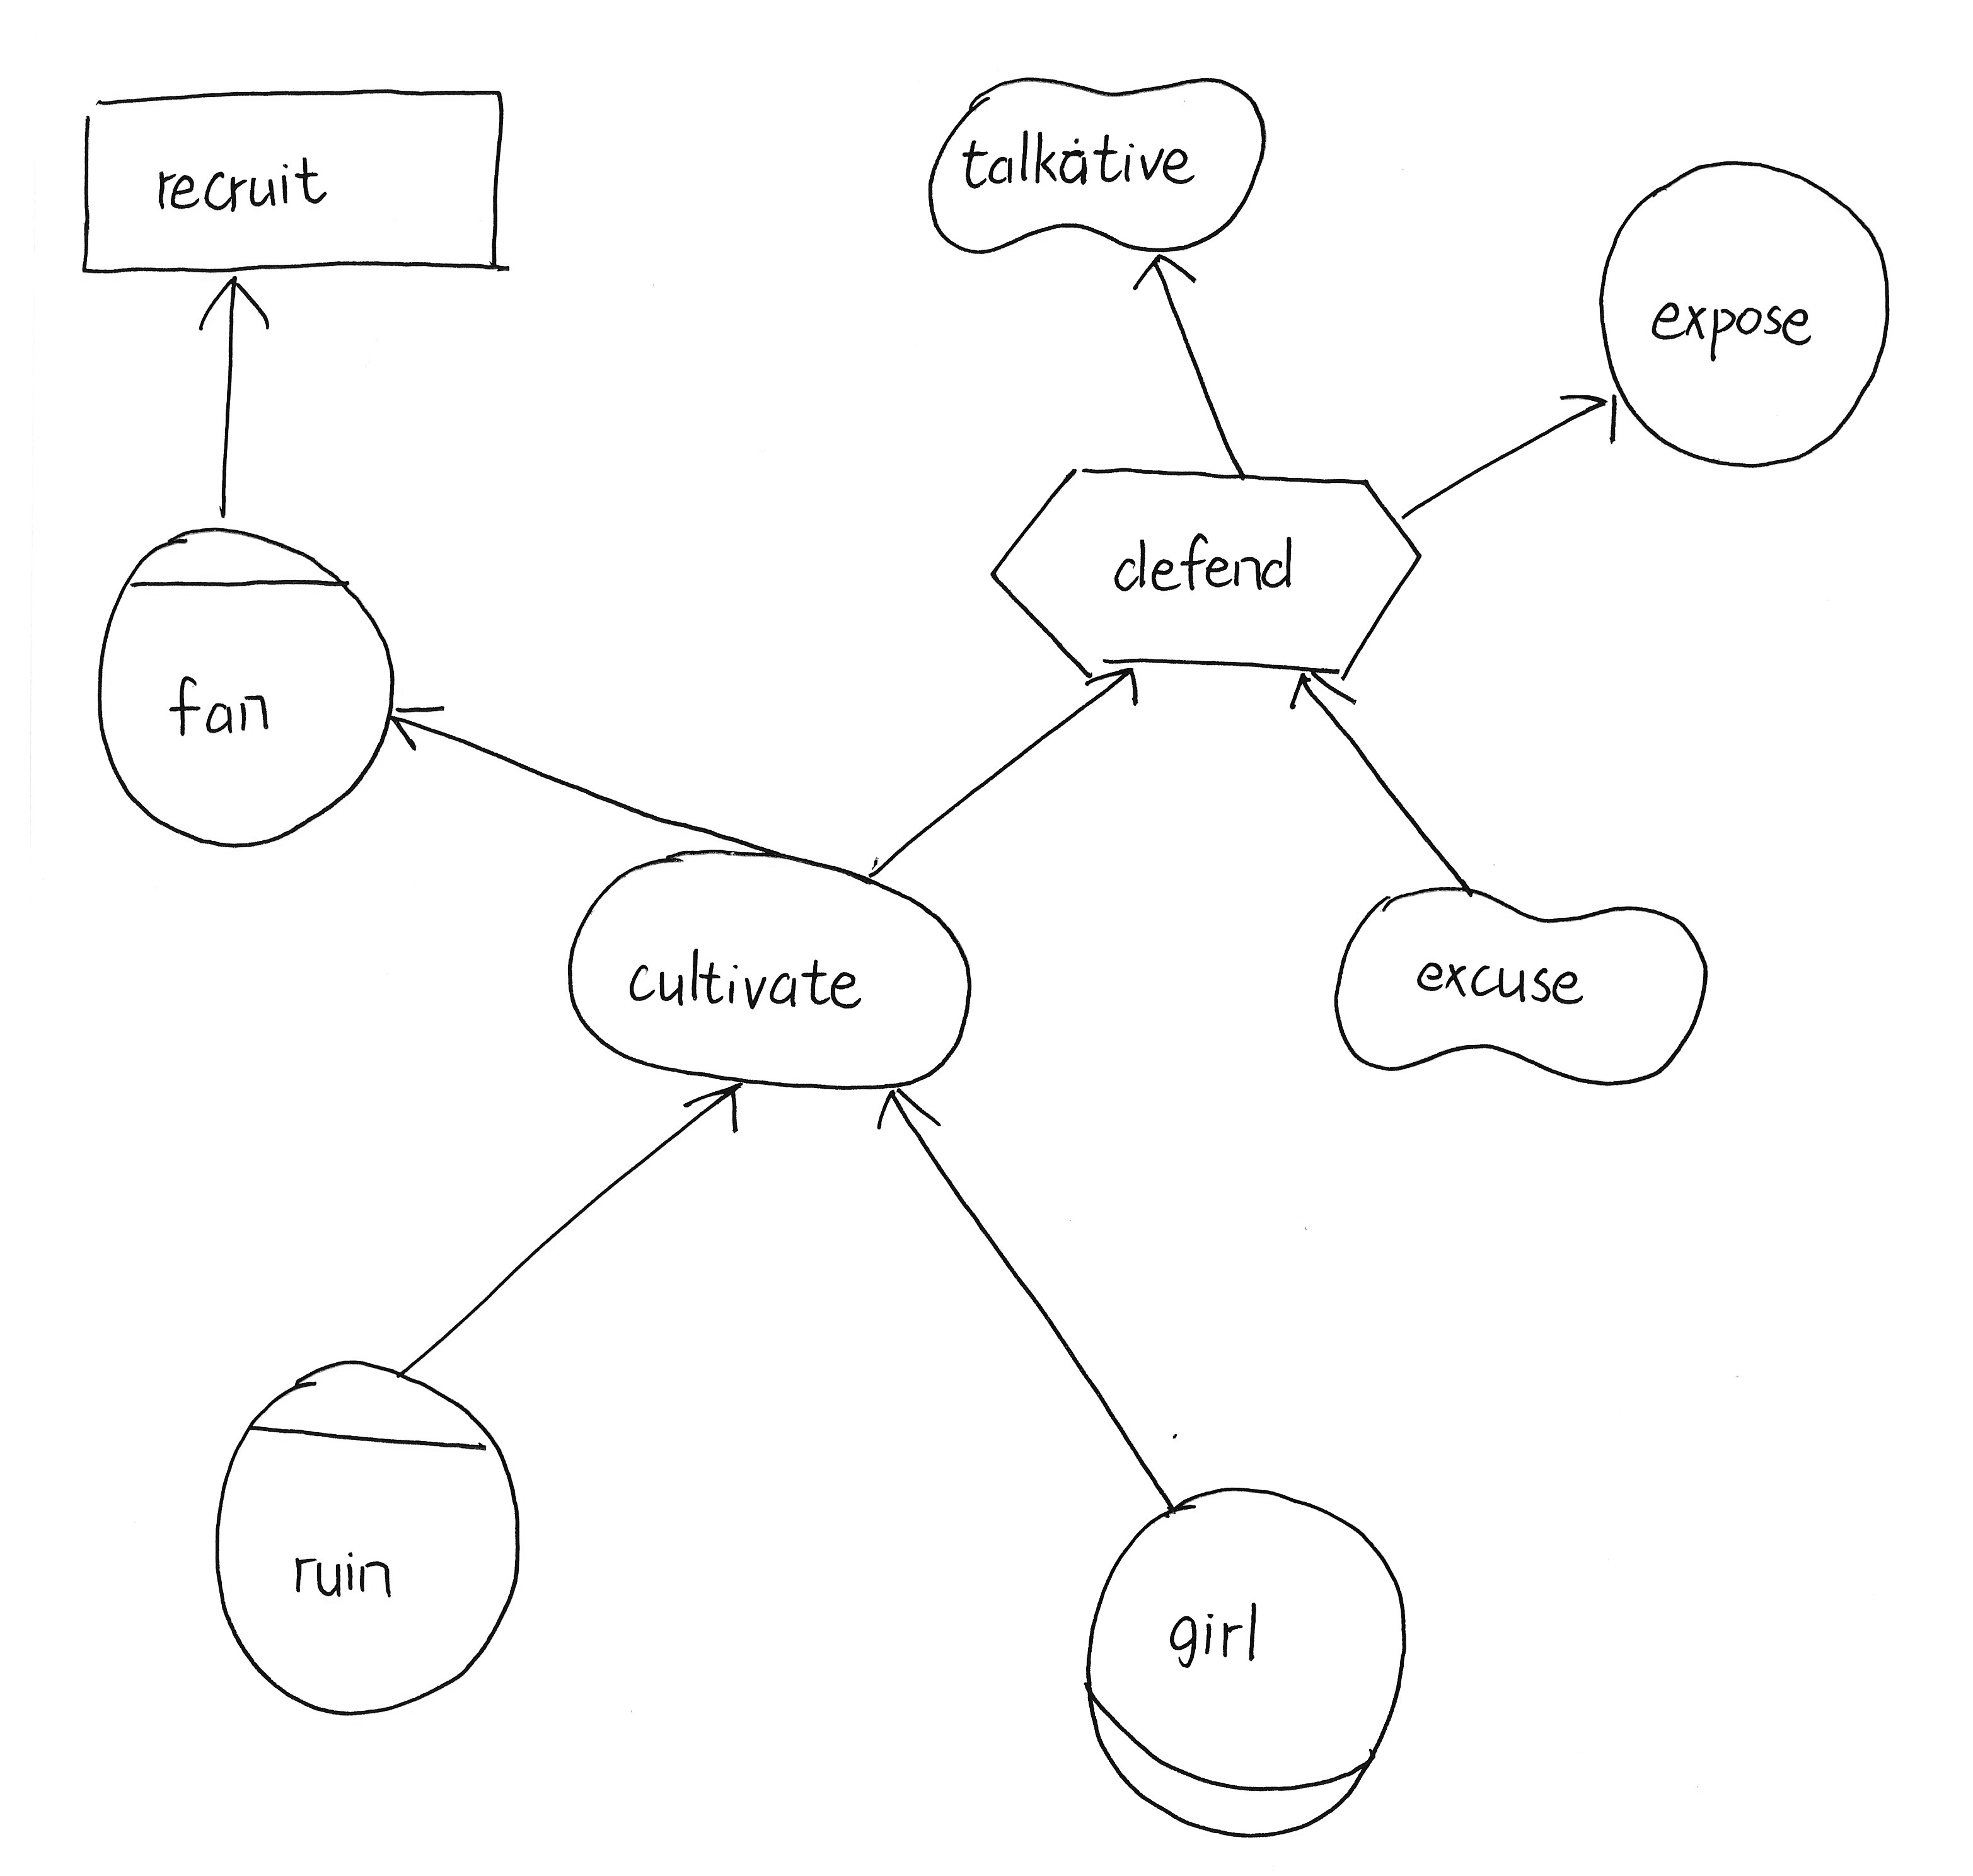actor: (1585, 144, 1908, 484)
agent: (190, 1337, 539, 1730), (76, 514, 418, 860)
arrow: (1073, 655, 1171, 733), (1272, 662, 1376, 731), (671, 1071, 756, 1152), (194, 266, 280, 345), (1552, 379, 1633, 462), (867, 1073, 953, 1148), (1119, 243, 1208, 314), (381, 691, 453, 768)
goal: (551, 830, 986, 1113)
quality: (1316, 865, 1721, 1106), (913, 46, 1279, 266)
resource: (58, 67, 534, 296)
role: (1066, 1471, 1418, 1855)
task: (978, 446, 1434, 694)
